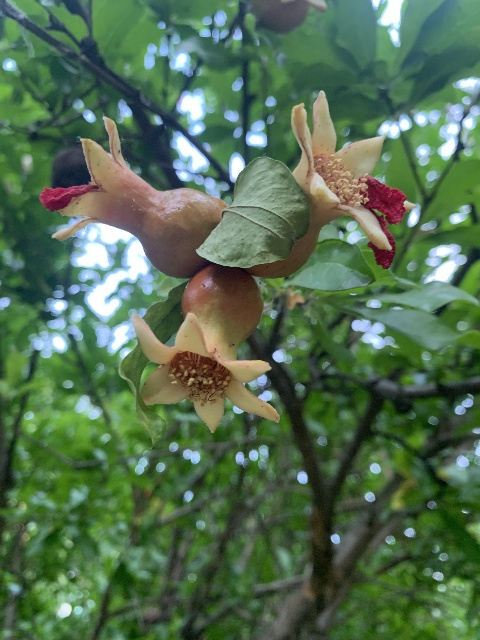early-fruit: (239, 88, 413, 277), (39, 116, 226, 278), (131, 263, 279, 434)
